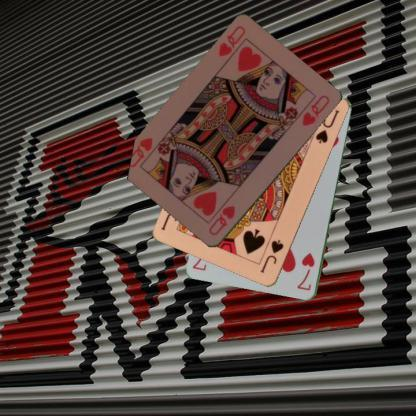7h: (294, 250, 316, 292)
Js: (257, 237, 286, 275)
Qh: (206, 202, 237, 238), (216, 23, 247, 58)
